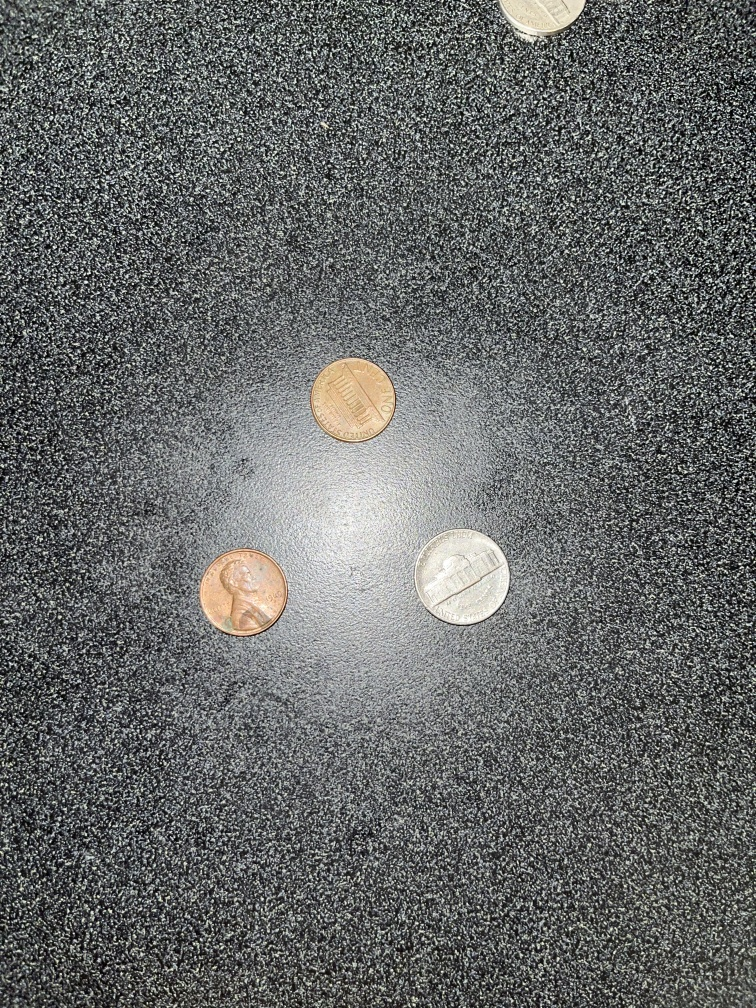nickel: (409, 521, 516, 634), (493, 1, 590, 37)
penny: (191, 544, 296, 645), (304, 351, 399, 446)
